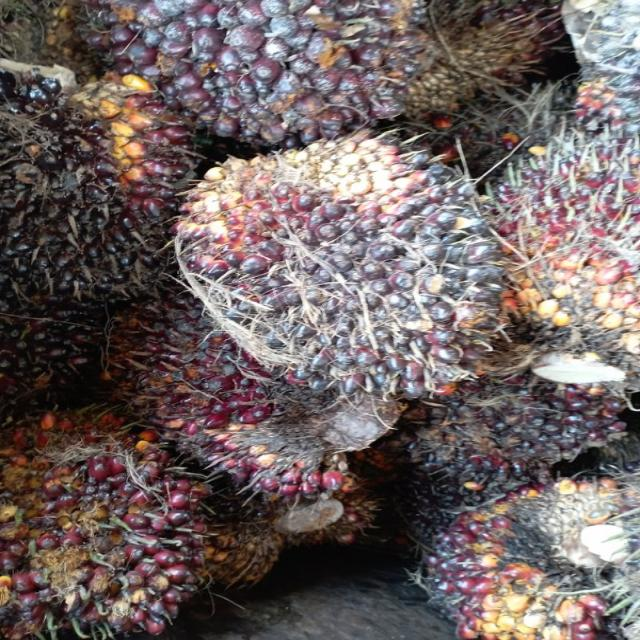fraksi 00: (175, 142, 527, 403), (0, 45, 190, 306)
fraksi 1: (120, 0, 443, 149), (0, 421, 225, 634)
